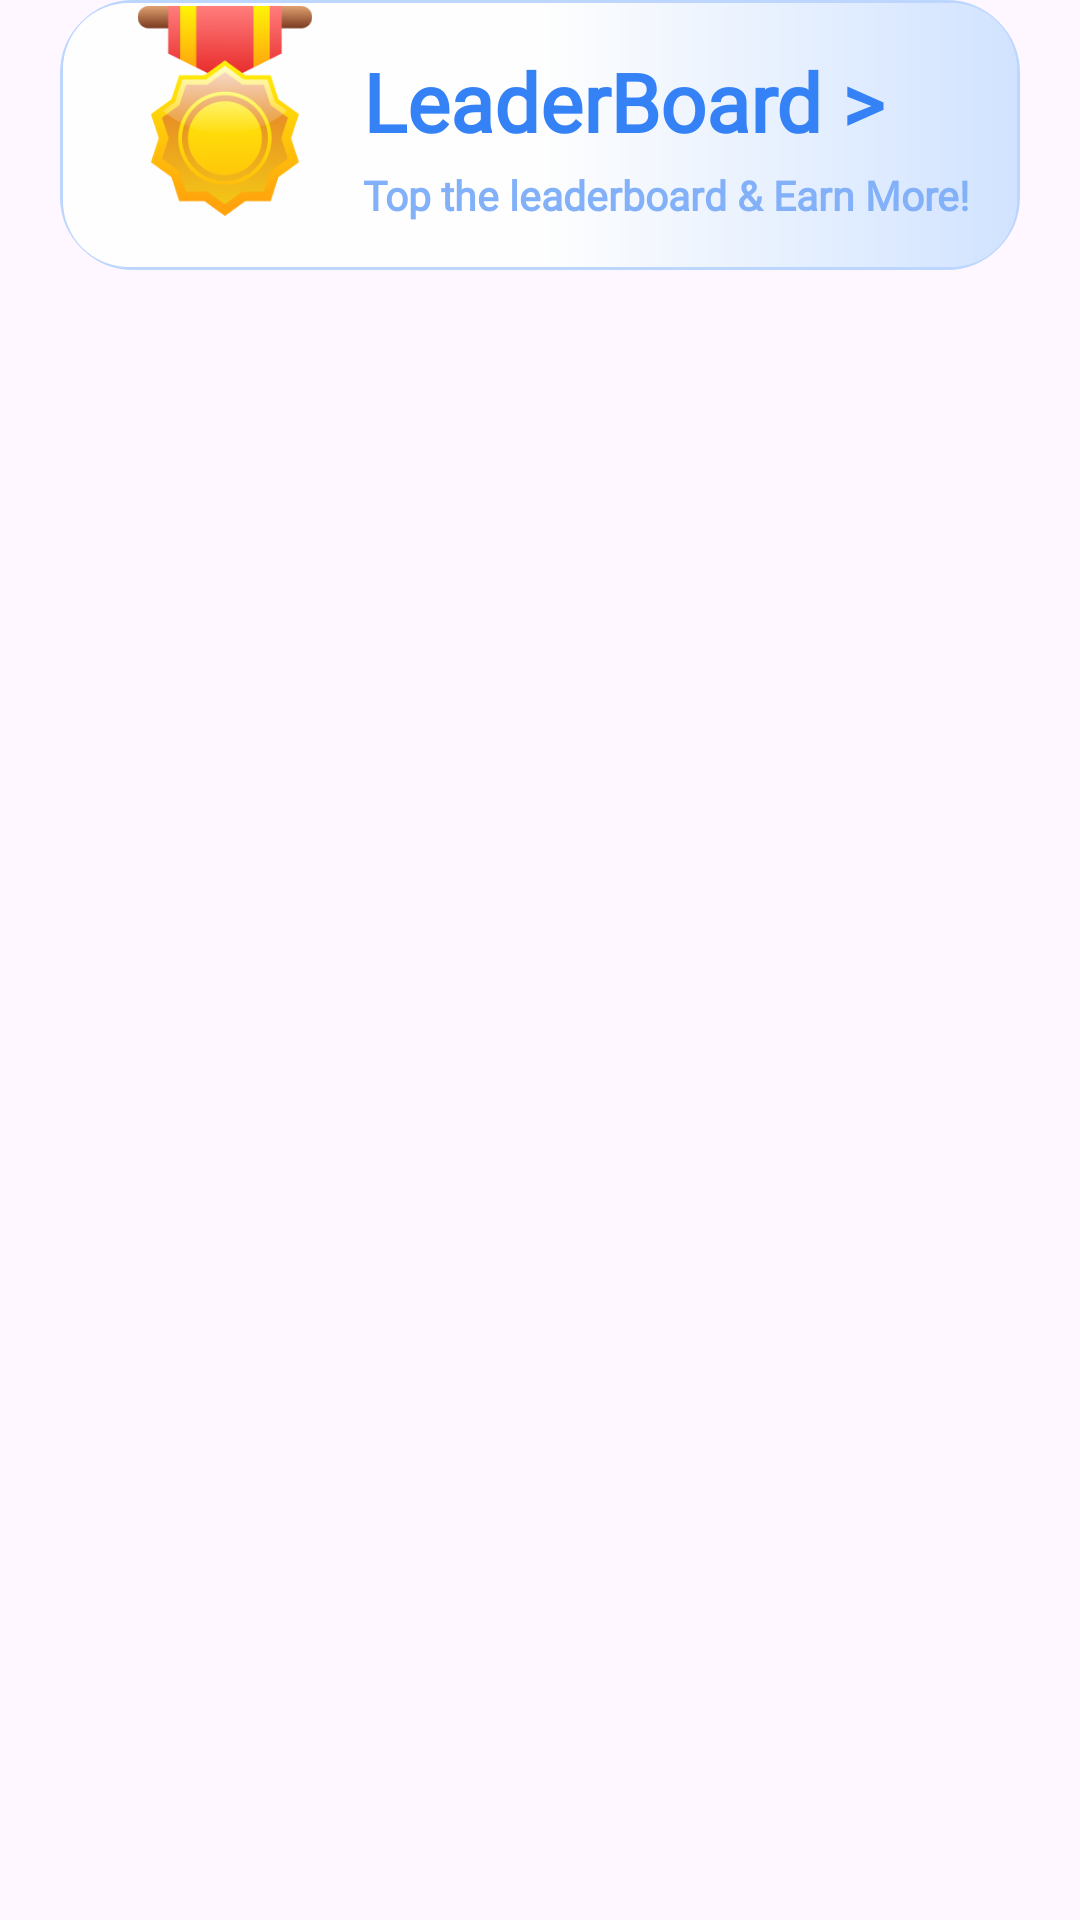

Screen size 1080px×1920px. Icon name, then its center in pixels as [x,y]:
badge: [225,111]
